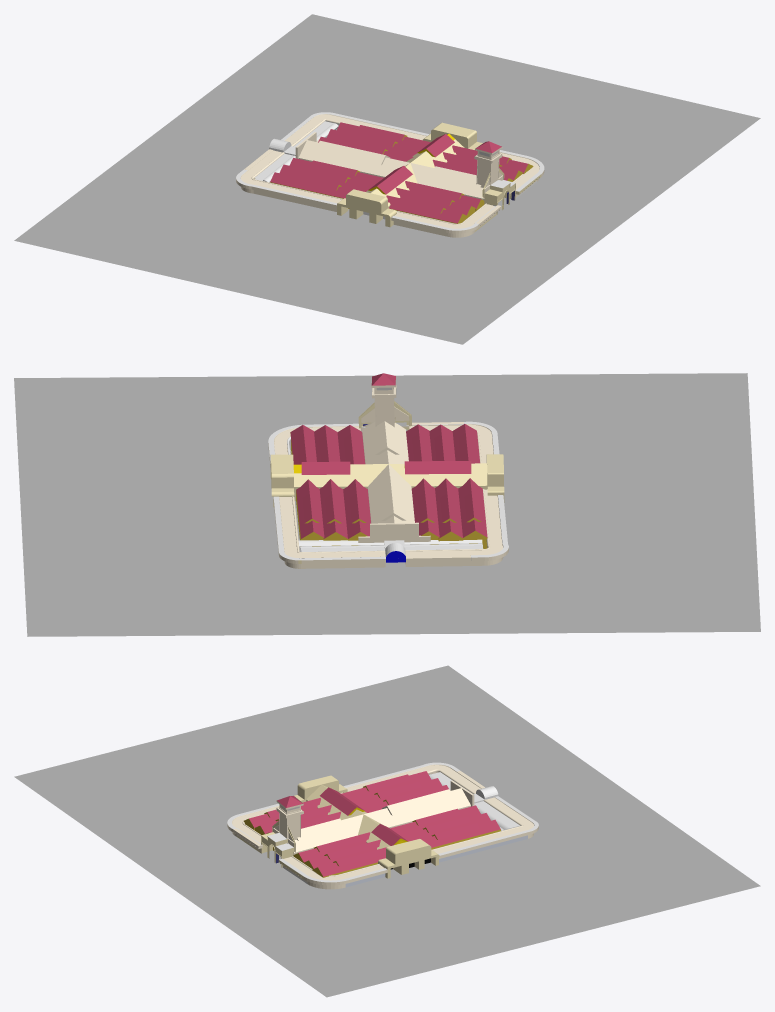
3 renders of one model, top to bottom at view 1: azimuth 30°, elevation 25°; view 2: azimuth 150°, elevation 25°; view 3: azimuth 270°, elevation 25°, orthographic. The views are drawn at different scales.
Visible parts, largest first — view 1: imagetostl_mesh; view 2: imagetostl_mesh; view 3: imagetostl_mesh.
Part boxes in pixels (x1,y1,x2,y2): imagetostl_mesh: (14,14,760,344); imagetostl_mesh: (14,373,760,636); imagetostl_mesh: (14,665,760,997).
Size of the model in its own units: 1628736 by 150992 by 1548625.
